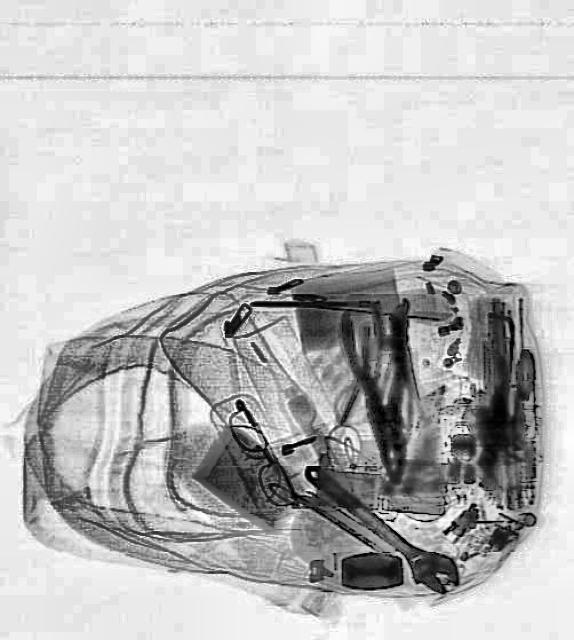Pliers: (335, 294, 435, 490)
Wrench: (291, 448, 467, 606)
